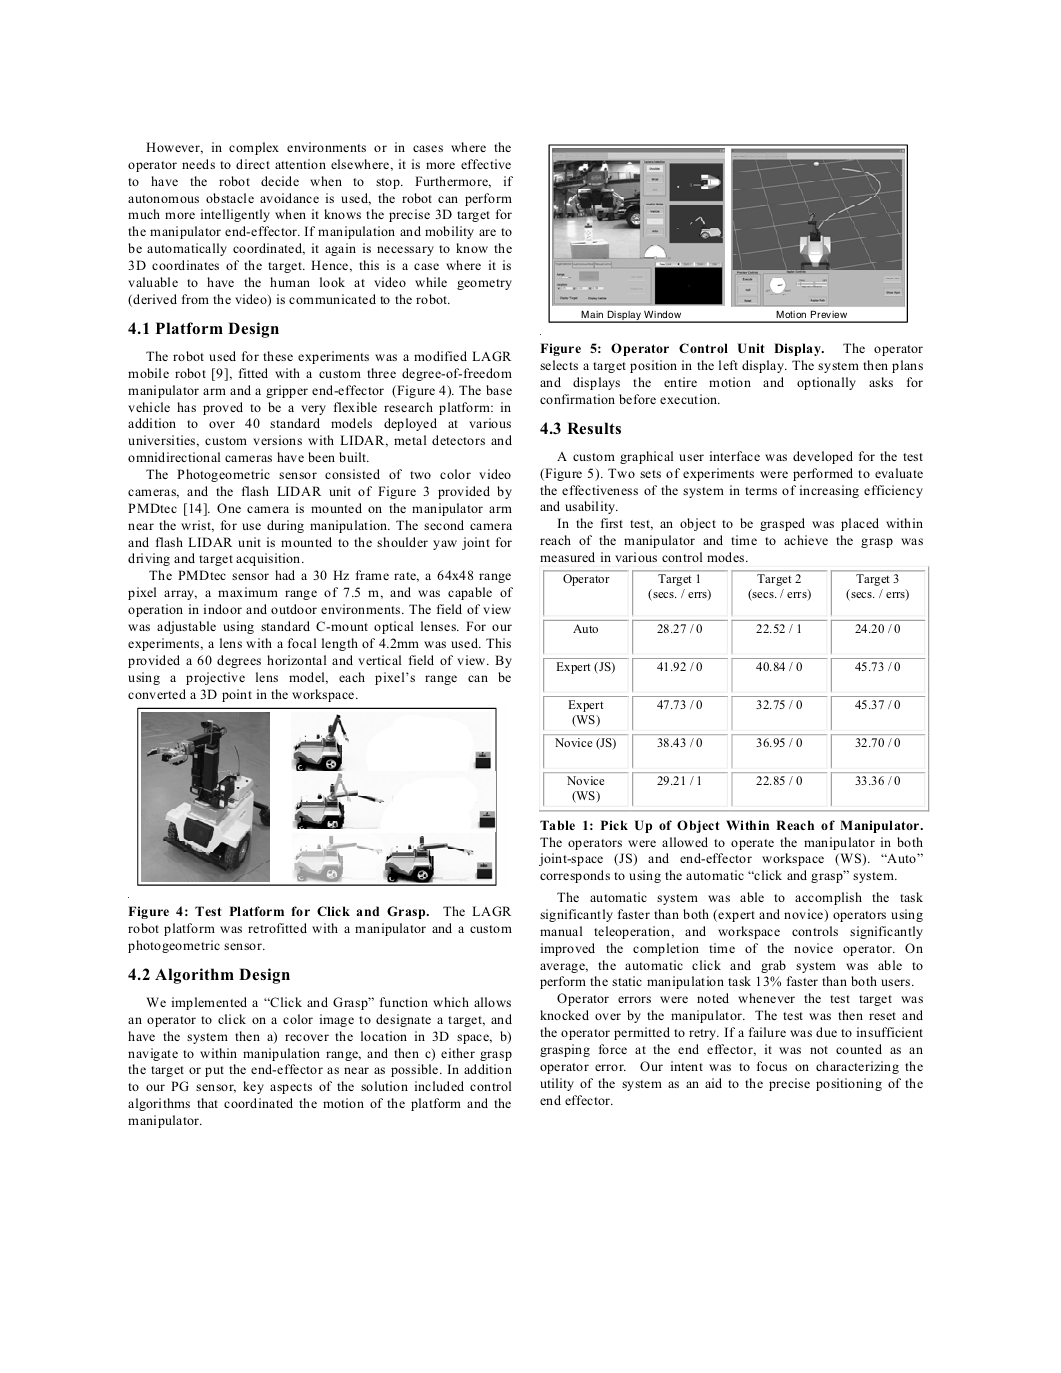Table: (539, 565, 929, 812)
figure: (548, 142, 907, 323), (137, 705, 496, 886)
